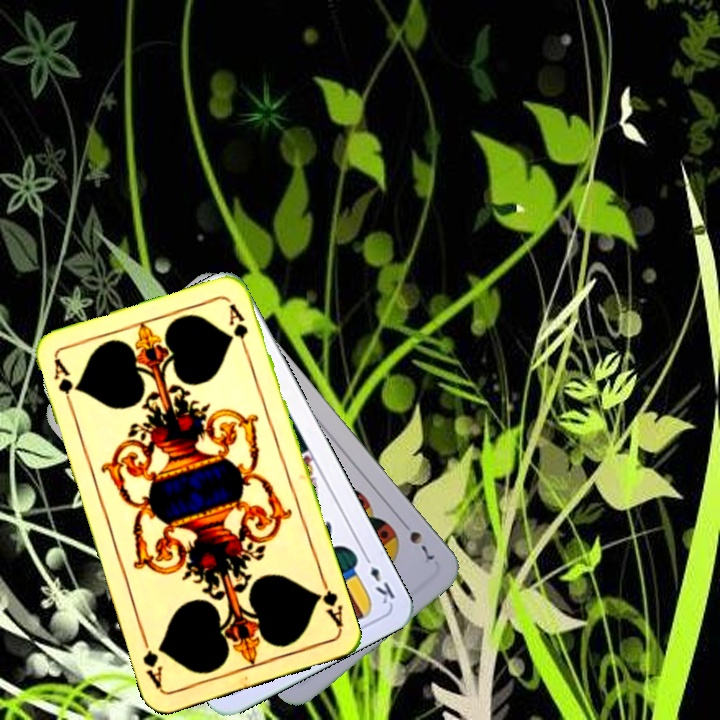EK: (359, 550, 398, 607)
GA: (311, 574, 346, 631), (49, 354, 79, 413)
S7: (396, 516, 437, 563)
